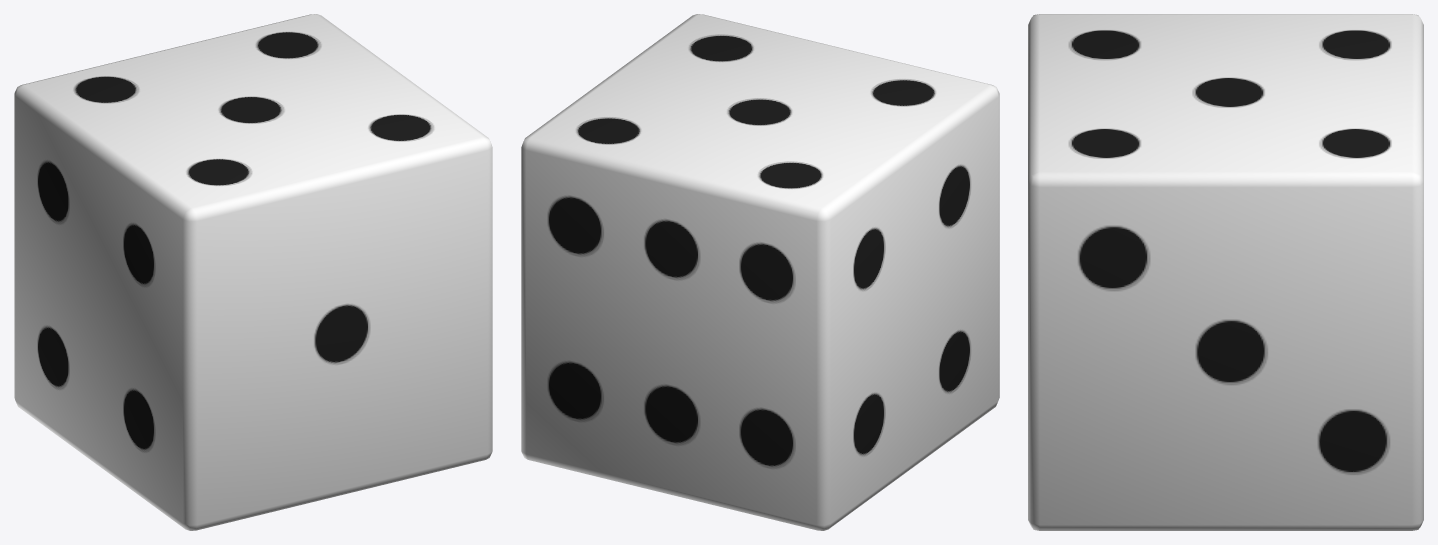
File: Dice.fbx
The picture shows the model from 3 angles, left to right: view 1: azimuth 30°, elevation 25°; view 2: azimuth 150°, elevation 25°; view 3: azimuth 270°, elevation 25°; orthographic projection. The views are drawn at different scales.
Parts seen in each view (by area): view 1: Dice; view 2: Dice; view 3: Dice.
Boxes of the visible parts, x1,y1,x2,y2 form: Dice: (14, 14, 492, 530); Dice: (521, 14, 999, 530); Dice: (1028, 14, 1423, 530).
Bounding box in the file's own units: 37.82 × 37.82 × 37.82.
